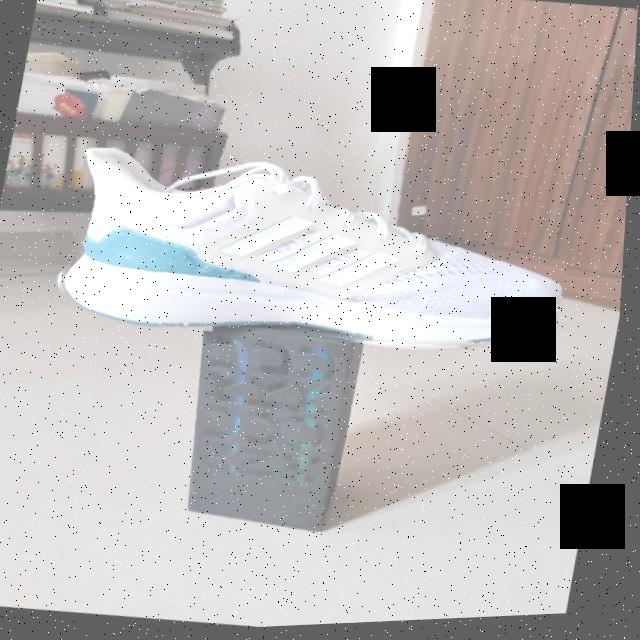shoe: (47, 127, 587, 383)
